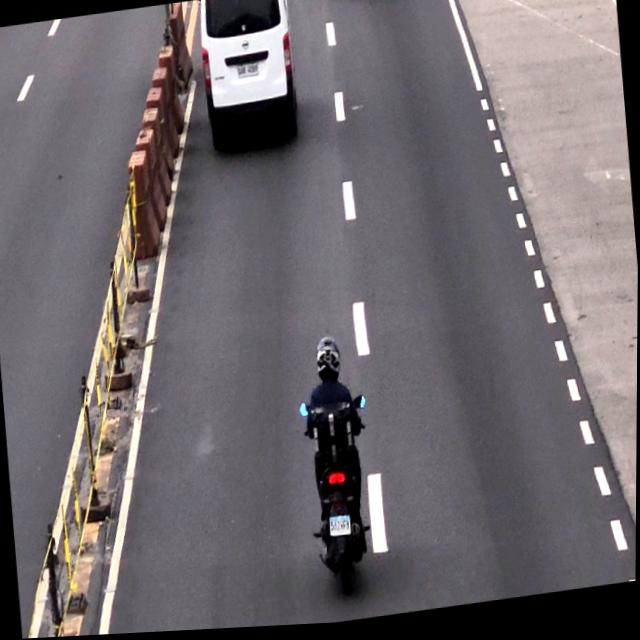Car: (197, 0, 298, 155)
License-Plate: (328, 512, 355, 542), (235, 62, 260, 80)
Motorcycle: (300, 332, 377, 612)
